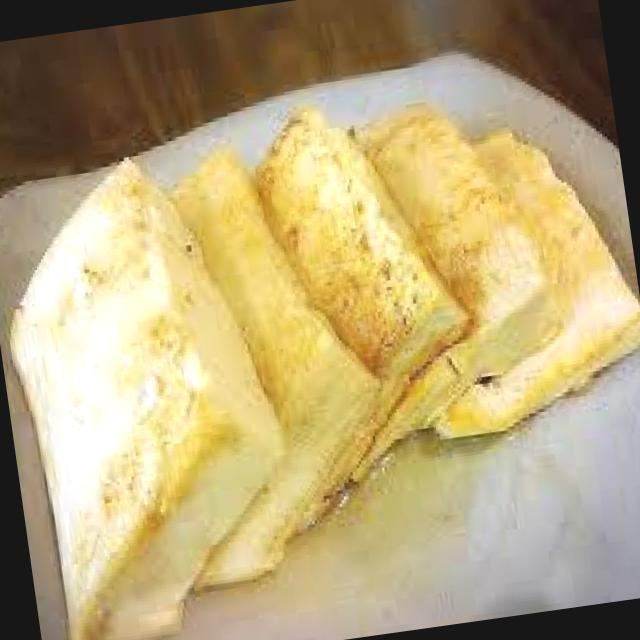tofu: (20, 30, 640, 480), (0, 144, 329, 640)
